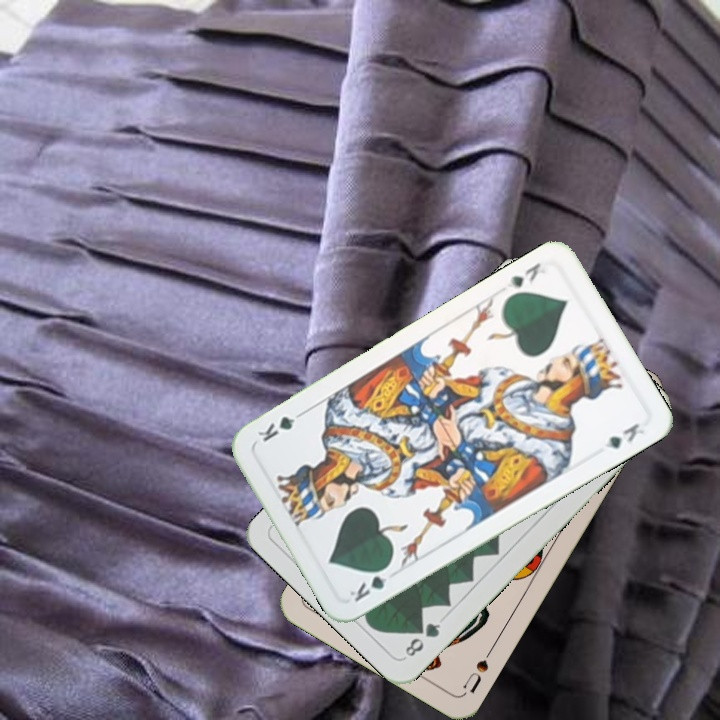G8: (400, 618, 444, 660)
GK: (345, 560, 394, 605), (504, 258, 549, 292)
SU: (458, 643, 496, 696)
